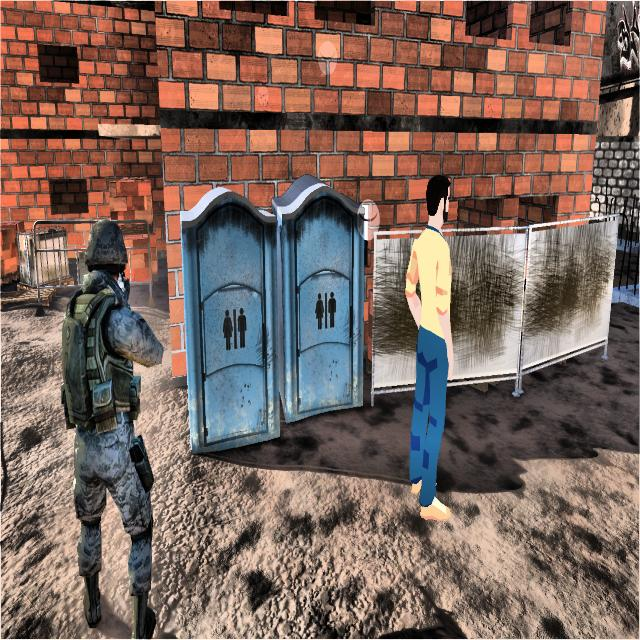bad: (54, 205, 166, 640)
good: (391, 158, 473, 529)
